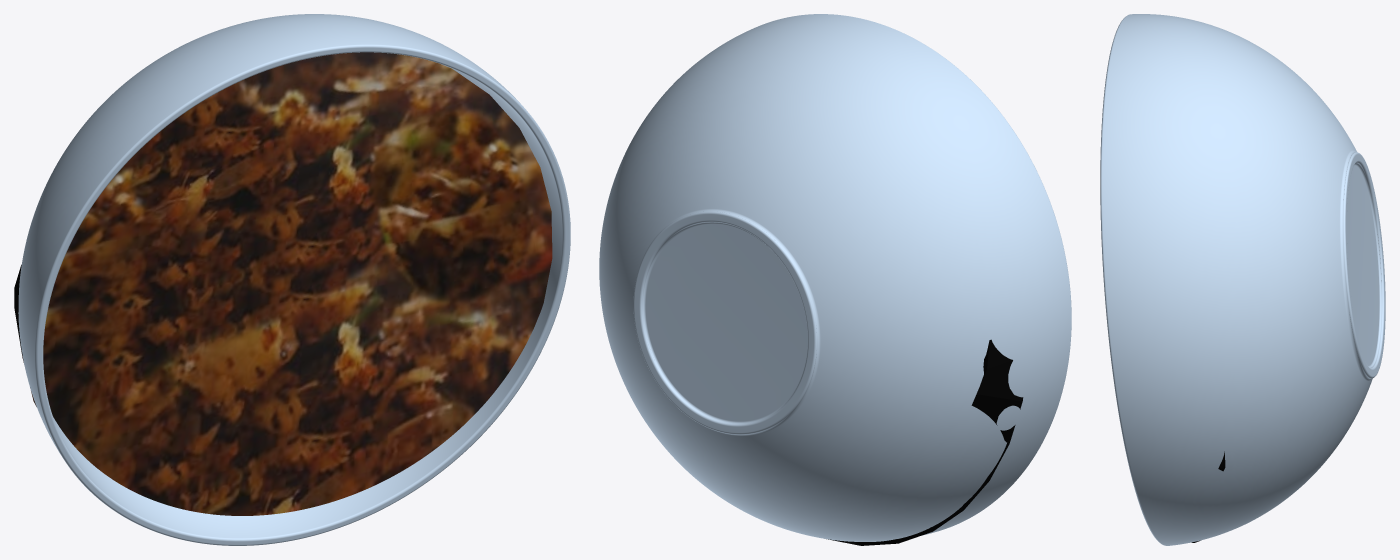
File: palapa.glb
3 views of the same model, side by side, from view 1: azimuth 30°, elevation 25°; view 2: azimuth 150°, elevation 25°; view 3: azimuth 270°, elevation 25° (orthographic). The views are drawn at different scales.
Visible parts, largest first — view 1: coffee.001, Kugel.001; view 2: Kugel.001, coffee.001; view 3: Kugel.001.
Boxes of the visible parts, x1,y1,x2,y2 form: coffee.001: [14, 52, 552, 515]; Kugel.001: [18, 14, 570, 545]; Kugel.001: [599, 14, 1071, 541]; coffee.001: [826, 339, 1023, 545]; Kugel.001: [1100, 14, 1385, 545].
Size of the model in its own units: 5.19 by 5.18 by 2.79.
Materials: 2 (1 with a texture image).
